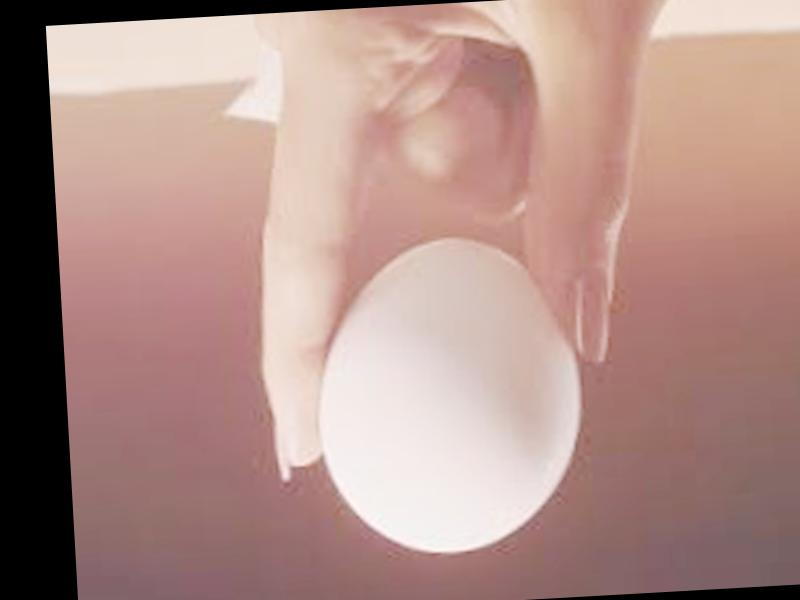Eggs: (306, 230, 590, 560)
